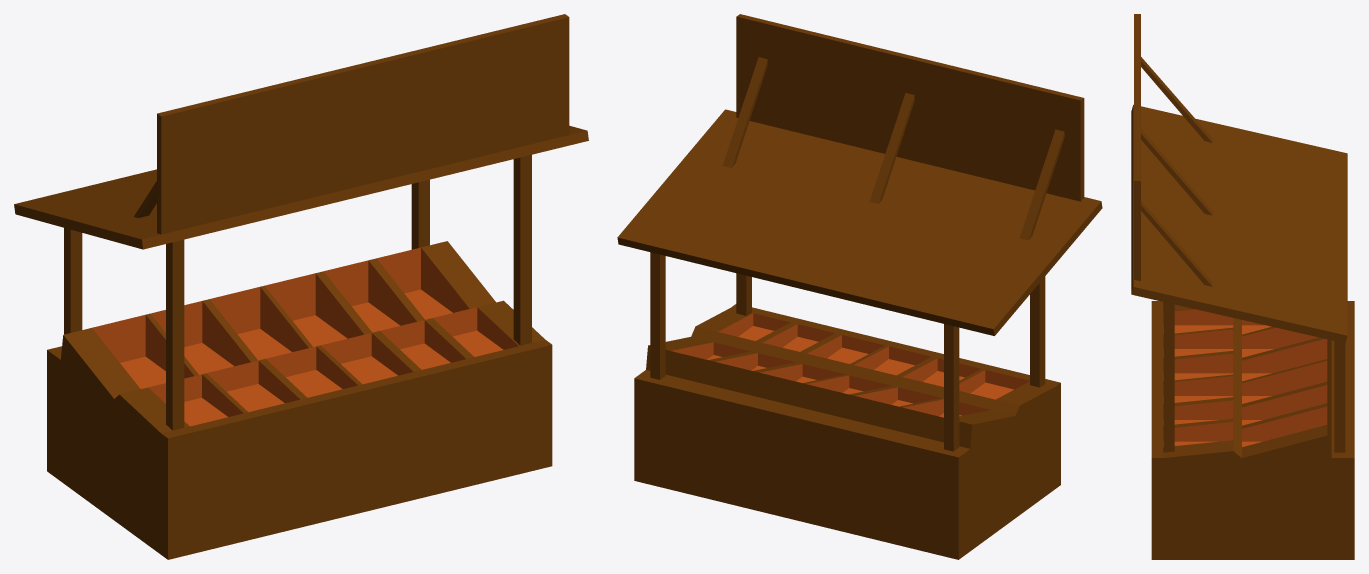
File: Lavka.fbx
3 views of the same model, side by side, from view 1: azimuth 30°, elevation 25°; view 2: azimuth 150°, elevation 25°; view 3: azimuth 270°, elevation 25° (orthographic). The views are drawn at different scales.
Parts seen in each view (by area): view 1: Cube, Cube.006, Cube.005, Cube.002, Cube.001, Cube.003, Cube.004; view 2: Cube, Cube.005, Cube.006, Cube.004, Cube.003, Cube.002, Cube.008, Cube.007, Cube.009, Cube.001; view 3: Cube, Cube.005, Cube.006, Cube.001, Cube.004, Cube.009, Cube.008, Cube.007.
Part boxes in pixels (x1,y1,x2,y2): Cube: (47, 241, 552, 559); Cube.006: (157, 14, 569, 234); Cube.005: (14, 125, 588, 249); Cube.002: (166, 239, 184, 430); Cube.001: (513, 155, 531, 345); Cube.003: (64, 228, 82, 334); Cube.004: (411, 179, 429, 249); Cube: (634, 304, 1060, 559); Cube.005: (617, 109, 1102, 335); Cube.006: (736, 14, 1084, 201); Cube.004: (650, 252, 665, 379); Cube.003: (944, 324, 959, 451); Cube.002: (1030, 276, 1045, 387); Cube.008: (869, 93, 914, 203); Cube.007: (722, 57, 767, 167); Cube.009: (1019, 129, 1064, 240); Cube.001: (736, 273, 751, 315); Cube: (1151, 301, 1354, 559); Cube.005: (1131, 104, 1347, 343); Cube.006: (1134, 14, 1140, 281); Cube.001: (1163, 302, 1174, 452); Cube.004: (1334, 341, 1345, 452); Cube.009: (1141, 57, 1212, 142); Cube.008: (1141, 129, 1212, 215); Cube.007: (1141, 201, 1212, 286).
Bounding box in the file's own units: 768 × 750 × 398.
